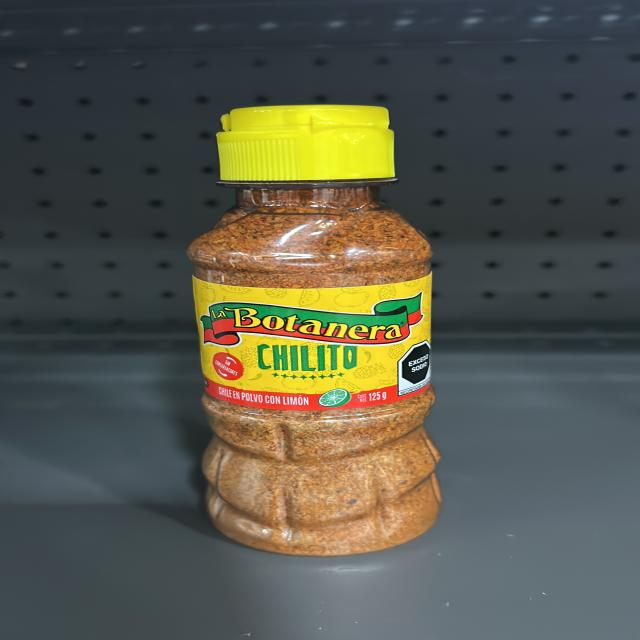botaneraChilito: (199, 111, 428, 556)
